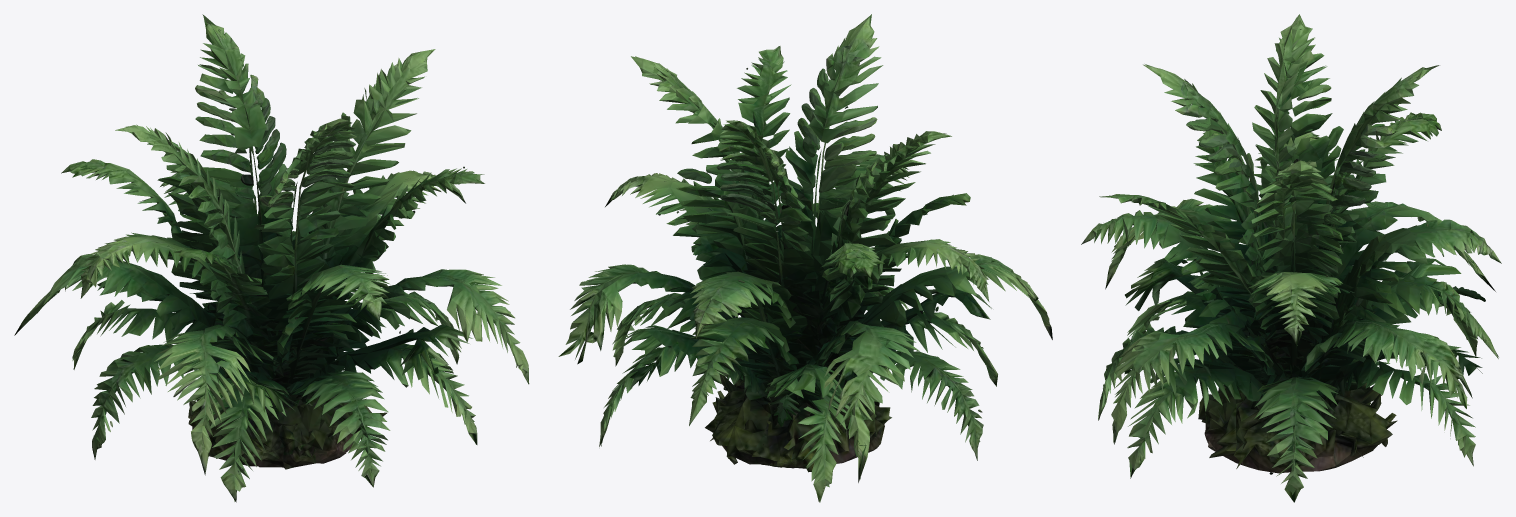
The model's file is shrub.glb.
The picture shows the model from 3 angles, left to right: view 1: azimuth 30°, elevation 25°; view 2: azimuth 150°, elevation 25°; view 3: azimuth 270°, elevation 25°; orthographic projection.
Visible parts, largest first — view 1: world; view 2: world; view 3: world.
Part boxes in pixels (x1,y1,x2,y2): world: (14,14,529,502); world: (558,14,1052,502); world: (1081,14,1501,502).
Size of the model in its own units: 0.9998 by 0.9142 by 0.9311.
1 material, 1 textured.
